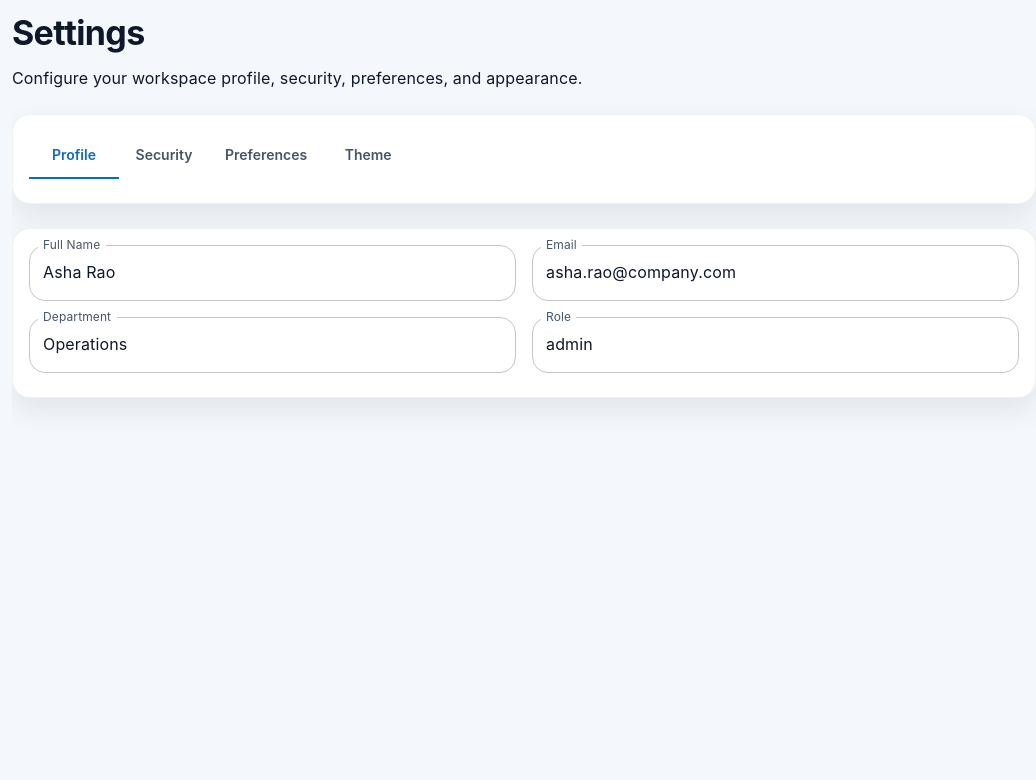
Scenario: SettingsPage › renders tabs and switches between them
Expected: the heading "Settings" is shown, [12,12,144,53]
Expected: the text "Full Name" is shown, [43,236,100,253]
// Switch to Security tab
Click the tab "Security" at (164, 155), box [119,131,209,179]
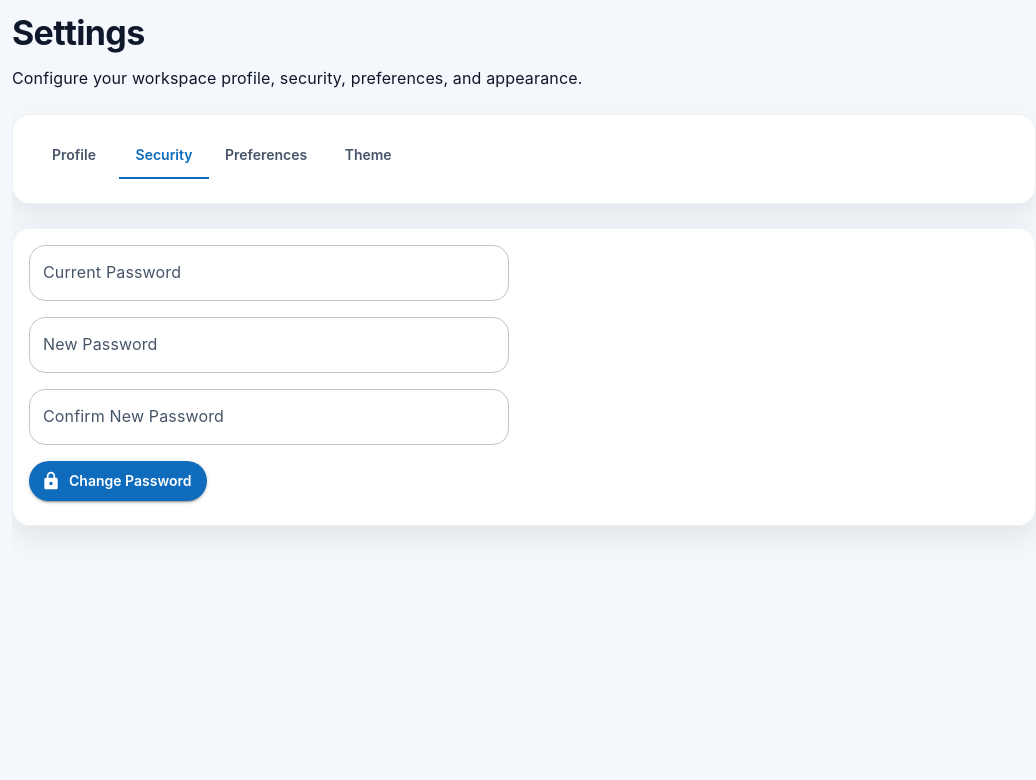
Result: the text "Current Password" is shown at [43,261,181,284]
// Switch to Theme tab
Click the tab "Theme" at (368, 155), box [323,131,413,179]
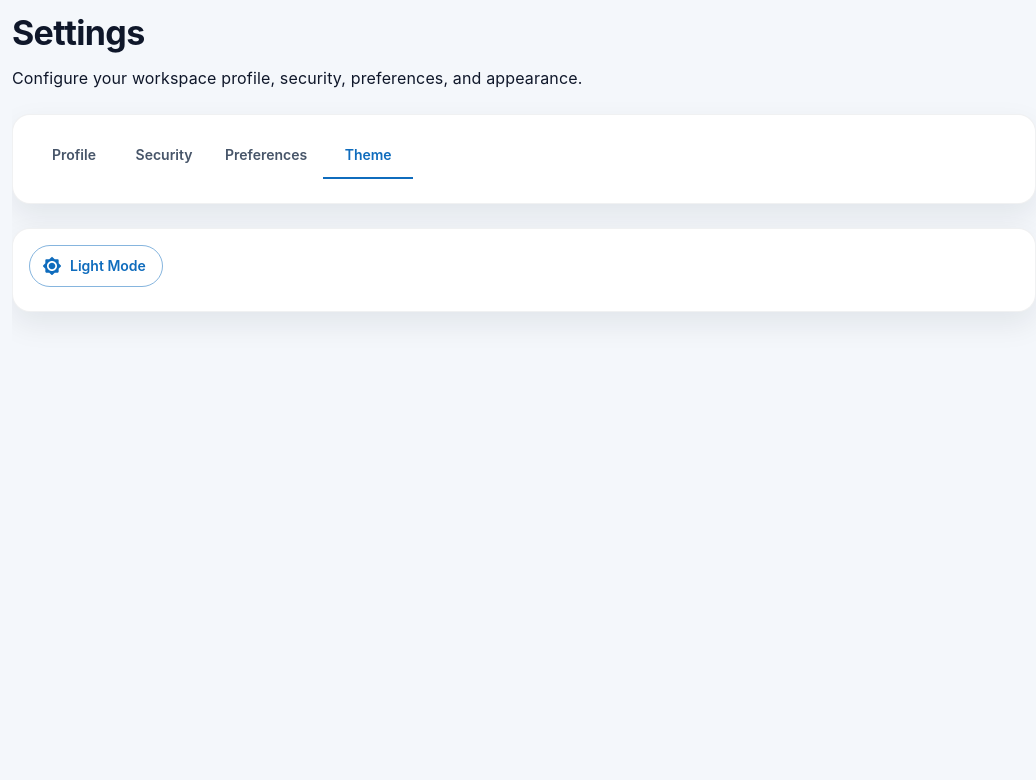
Result: the button "Light Mode" is shown at [29,245,163,287]
